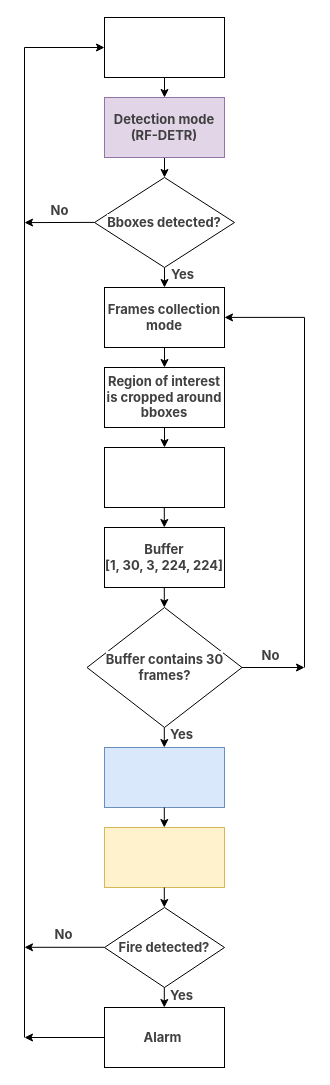
The diagram is 330 pixels wide and 1085 high, and some of its shapes have lost their labels. Each missing label, with the centre of its shape:
Feature extraction (EfficientNet) [1, 30, 1280]: (x=164, y=777)
Preprocessing: (x=164, y=477)
Transformer: (x=164, y=857)
Video stream [1, 3, H, W]: (x=164, y=47)
